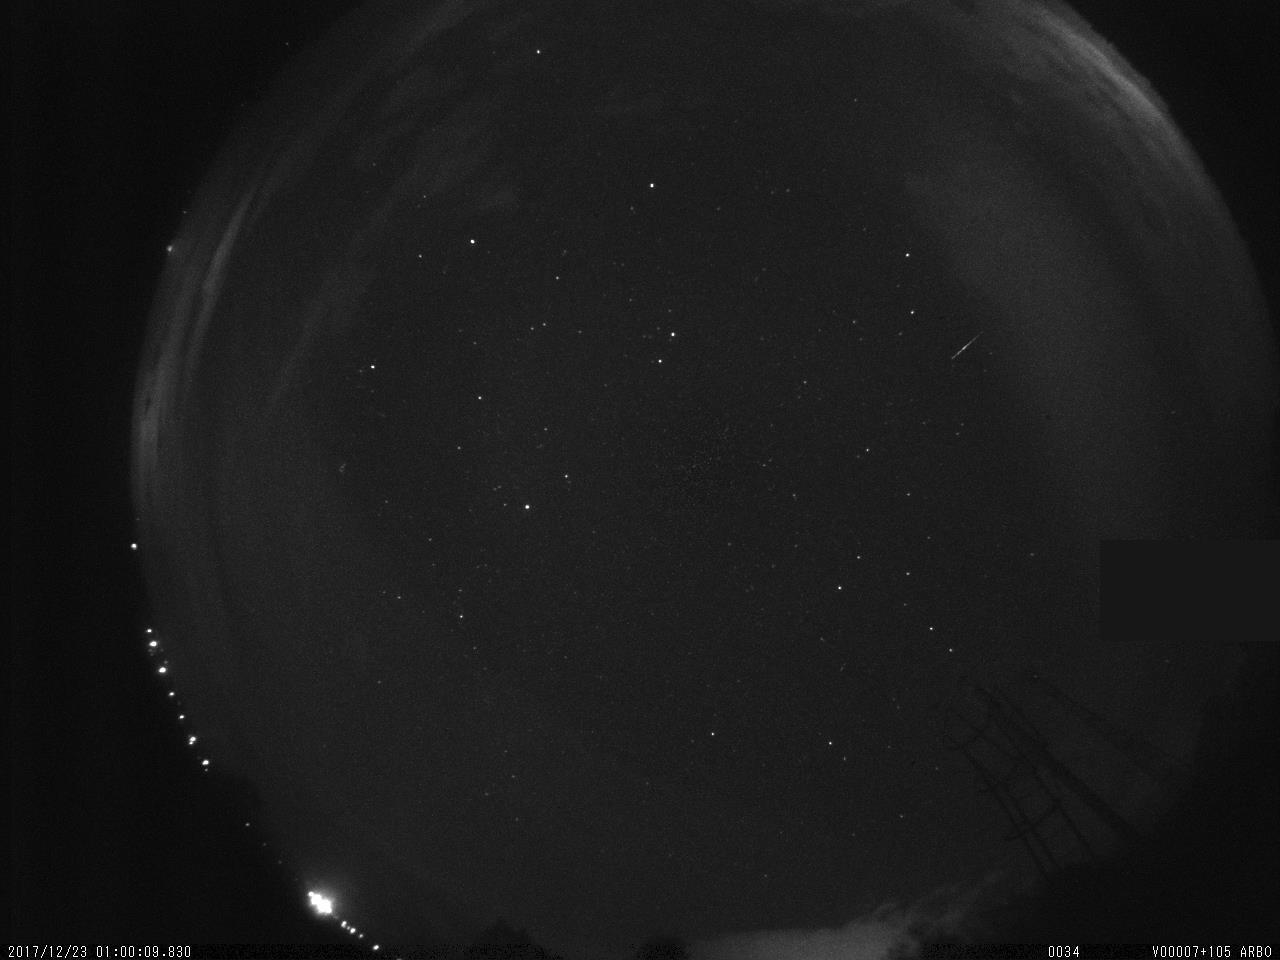meteor: (943, 322, 994, 373)
